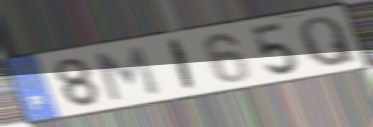5: (247, 20, 300, 77)
6: (201, 31, 252, 85)
8: (50, 56, 103, 108)
I: (168, 36, 198, 94)
M: (92, 44, 163, 104)
Q: (297, 14, 362, 69)
